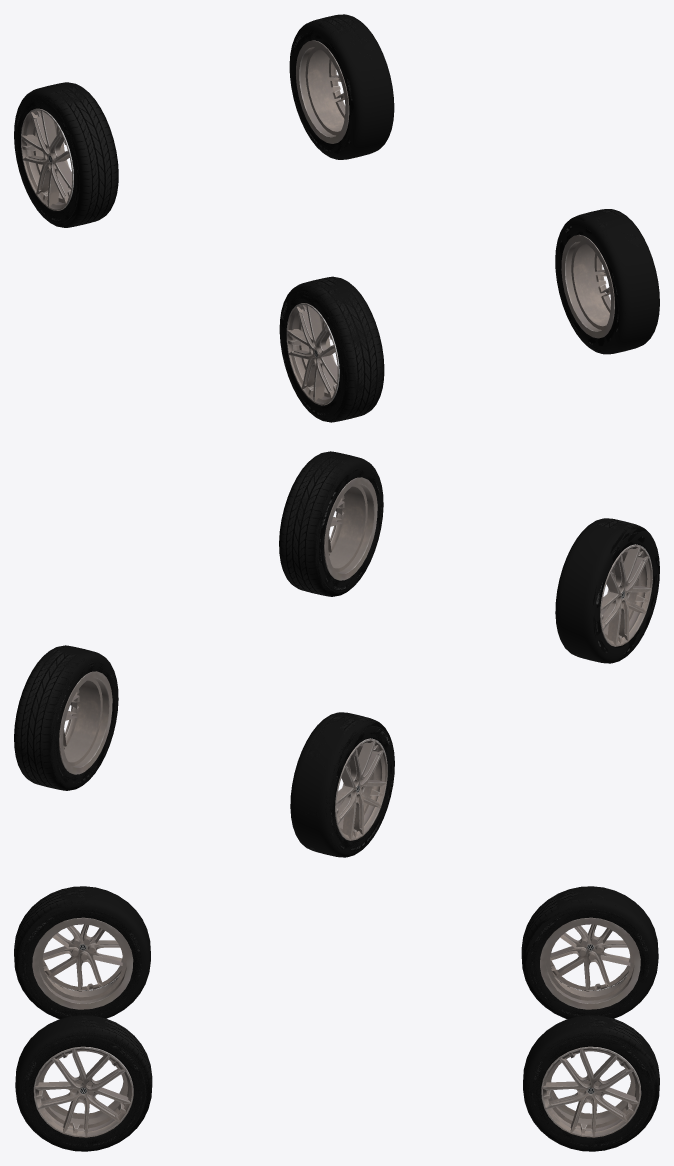
The picture shows the model from 3 angles, top to bottom: view 1: azimuth 30°, elevation 25°; view 2: azimuth 150°, elevation 25°; view 3: azimuth 270°, elevation 25°; orthographic projection. The views are drawn at different scales.
Parts seen in each view (by area): view 1: tyre 4 back left, tyre 4 front left, tyre 4 front right, tyre 4 back right; view 2: tyre 4 front right, tyre 4 back right, tyre 4 front left, tyre 4 back left; view 3: tyre 4 front left, tyre 4 back left, tyre 4 front right, tyre 4 back right.
Part boxes in pixels (x1,y1,x2,y2): tyre 4 back left: (289, 14, 394, 159); tyre 4 front left: (555, 209, 659, 354); tyre 4 front right: (279, 276, 384, 422); tyre 4 back right: (14, 82, 118, 227); tyre 4 front right: (555, 518, 659, 663); tyre 4 back right: (290, 712, 394, 857); tyre 4 front left: (279, 451, 383, 596); tyre 4 back left: (14, 645, 118, 790); tyre 4 front left: (15, 1015, 152, 1151); tyre 4 back left: (523, 1015, 659, 1151); tyre 4 front right: (14, 886, 150, 1018); tyre 4 back right: (521, 886, 658, 1018).
Bounding box in the file's own units: 1.91 × 0.7506 × 3.54.
Materials: 10 (6 with a texture image).
